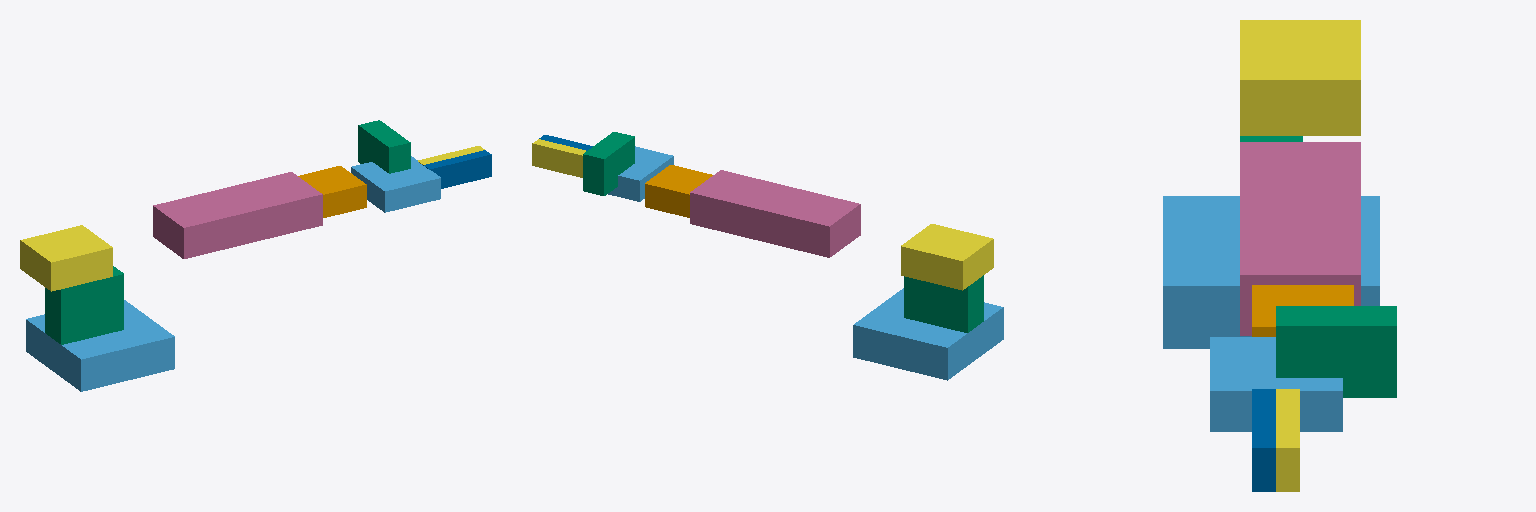
URDF robot description (braccio):
<?xml version="1.0" ?>
<!-- =================================================================================== -->
<!-- |    This document was autogenerated by xacro from description/urdf/braccio.urdf.xacro | -->
<!-- |    EDITING THIS FILE BY HAND IS NOT RECOMMENDED                                 | -->
<!-- =================================================================================== -->
<robot name="braccio">
  <!-- create link fixed to the "world" -->
  <link name="world"/>
  <!-- Load the YAML file -->
  <!-- <xacro:property name="yaml_file" value="$(find braccio_simulation)/urdf/config/braccio_param.yaml"/>
    <xacro:property name="robot_descr" value="${xacro.load_yaml(yaml_file)}"/> -->
  <!-- helper macro -->
  <link name="base_link">
    <visual>
      <origin rpy="0 0 0" xyz="0 0 0.0145"/>
      <geometry>
        <box size="0.088 0.090 0.029"/>
      </geometry>
    </visual>
    <collision>
      <origin rpy="0 0 0" xyz="0 0 0.0145"/>
      <geometry>
        <box size="0.088 0.090 0.029"/>
      </geometry>
    </collision>
    <inertial>
      <mass value="1"/>
      <inertia ixx="1.0" ixy="0.0" ixz="0.0" iyy="1.0" iyz="0.0" izz="1.0"/>
    </inertial>
  </link>
  <link name="base_vert_servo_rot">
    <visual>
      <origin rpy="0 0 0" xyz="0 0 0"/>
      <geometry>
        <box size="0.059 0.026 0.050"/>
      </geometry>
    </visual>
    <collision>
      <origin rpy="0 0 0" xyz="0 0 0"/>
      <geometry>
        <box size="0.059 0.026 0.050"/>
      </geometry>
    </collision>
    <inertial>
      <mass value="1"/>
      <inertia ixx="1.0" ixy="0.0" ixz="0.0" iyy="1.0" iyz="0.0" izz="1.0"/>
    </inertial>
  </link>
  <link name="base_servo_ud">
    <visual>
      <origin rpy="0 0 0" xyz="0.002 0.012 0.013"/>
      <geometry>
        <box size="0.058 0.050 0.026"/>
      </geometry>
    </visual>
    <collision>
      <origin rpy="0 0 0" xyz="0.002 0.012 0.013"/>
      <geometry>
        <box size="0.058 0.050 0.026"/>
      </geometry>
    </collision>
    <inertial>
      <mass value="1"/>
      <inertia ixx="1.0" ixy="0.0" ixz="0.0" iyy="1.0" iyz="0.0" izz="1.0"/>
    </inertial>
  </link>
  <link name="arm_1_up_down_p1">
    <visual>
      <origin rpy="0 0 -1.570796327" xyz="0 0 0"/>
      <geometry>
        <mesh filename="file:///braccio_control/install/braccio_simulation/share/braccio_simulation/model/3Dparts/ModelARM-Body.stl" scale="0.001 0.001 0.001"/>
      </geometry>
    </visual>
    <collision>
      <origin rpy="0 0 -1.570796327" xyz="0 0 0"/>
      <geometry>
        <mesh filename="file:///braccio_control/install/braccio_simulation/share/braccio_simulation/model/3Dparts/ModelARM-Body.stl" scale="0.001 0.001 0.001"/>
      </geometry>
    </collision>
    <inertial>
      <mass value="1"/>
      <inertia ixx="1.0" ixy="0.0" ixz="0.0" iyy="1.0" iyz="0.0" izz="1.0"/>
    </inertial>
  </link>
  <link name="arm_1_up_down_p2">
    <visual>
      <origin rpy="3.141592653589793 0 -1.570796327" xyz="0 0 0"/>
      <geometry>
        <mesh filename="file:///braccio_control/install/braccio_simulation/share/braccio_simulation/model/3Dparts/ModelARM-Body.stl" scale="0.001 0.001 0.001"/>
      </geometry>
    </visual>
    <collision>
      <origin rpy="3.141592653589793 0 -1.570796327" xyz="0 0 0"/>
      <geometry>
        <mesh filename="file:///braccio_control/install/braccio_simulation/share/braccio_simulation/model/3Dparts/ModelARM-Body.stl" scale="0.001 0.001 0.001"/>
      </geometry>
    </collision>
    <inertial>
      <mass value="1"/>
      <inertia ixx="1.0" ixy="0.0" ixz="0.0" iyy="1.0" iyz="0.0" izz="1.0"/>
    </inertial>
  </link>
  <link name="arm_2_up_down">
    <visual>
      <origin rpy="0 0 0" xyz="0.045 -0.001 0"/>
      <geometry>
        <box size="0.13 0.050 0.028"/>
      </geometry>
    </visual>
    <collision>
      <origin rpy="0 0 0" xyz="0.045 -0.001 0"/>
      <geometry>
        <box size="0.13 0.050 0.028"/>
      </geometry>
    </collision>
    <inertial>
      <mass value="1"/>
      <inertia ixx="1.0" ixy="0.0" ixz="0.0" iyy="1.0" iyz="0.0" izz="1.0"/>
    </inertial>
  </link>
  <link name="arm_3_up_down">
    <visual>
      <origin rpy="0 0 -1.570796327" xyz="0 0 0"/>
      <geometry>
        <mesh filename="file:///braccio_control/install/braccio_simulation/share/braccio_simulation/model/3Dparts/ModelARM-Body.stl" scale="0.001 0.001 0.001"/>
      </geometry>
    </visual>
    <collision>
      <origin rpy="0 0 -1.570796327" xyz="0 0 0"/>
      <geometry>
        <mesh filename="file:///braccio_control/install/braccio_simulation/share/braccio_simulation/model/3Dparts/ModelARM-Body.stl" scale="0.001 0.001 0.001"/>
      </geometry>
    </collision>
    <inertial>
      <mass value="1"/>
      <inertia ixx="1.0" ixy="0.0" ixz="0.0" iyy="1.0" iyz="0.0" izz="1.0"/>
    </inertial>
  </link>
  <link name="box_servo_rot">
    <visual>
      <origin rpy="0 0 0" xyz="0 0 0"/>
      <geometry>
        <box size="0.042 0.042 0.021"/>
      </geometry>
    </visual>
    <collision>
      <origin rpy="0 0 0" xyz="0 0 0"/>
      <geometry>
        <box size="0.042 0.042 0.021"/>
      </geometry>
    </collision>
    <inertial>
      <mass value="1"/>
      <inertia ixx="1.0" ixy="0.0" ixz="0.0" iyy="1.0" iyz="0.0" izz="1.0"/>
    </inertial>
  </link>
  <link name="rot_grasp">
    <visual>
      <origin rpy="0 0 0" xyz="0.0265 0 0"/>
      <geometry>
        <box size="0.053 0.055 0.019"/>
      </geometry>
    </visual>
    <collision>
      <origin rpy="0 0 0" xyz="0.0265 0 0"/>
      <geometry>
        <box size="0.053 0.055 0.019"/>
      </geometry>
    </collision>
    <inertial>
      <mass value="1"/>
      <inertia ixx="1.0" ixy="0.0" ixz="0.0" iyy="1.0" iyz="0.0" izz="1.0"/>
    </inertial>
  </link>
  <link name="grasp_box">
    <visual>
      <origin rpy="0 0 0" xyz="0.03 0.025 0.0165"/>
      <geometry>
        <box size="0.020 0.050 0.033"/>
      </geometry>
    </visual>
    <collision>
      <origin rpy="0 0 0" xyz="0.03 0.025 0.0165"/>
      <geometry>
        <box size="0.020 0.050 0.033"/>
      </geometry>
    </collision>
    <inertial>
      <mass value="1"/>
      <inertia ixx="1.0" ixy="0.0" ixz="0.0" iyy="1.0" iyz="0.0" izz="1.0"/>
    </inertial>
  </link>
  <link name="grasp_l">
    <visual>
      <origin rpy="0 0 0" xyz="0.029 0.005 0"/>
      <geometry>
        <box size="0.058 0.010 0.020"/>
      </geometry>
    </visual>
    <collision>
      <origin rpy="0 0 0" xyz="0.029 0.005 0"/>
      <geometry>
        <box size="0.058 0.010 0.020"/>
      </geometry>
    </collision>
    <inertial>
      <mass value="1"/>
      <inertia ixx="1.0" ixy="0.0" ixz="0.0" iyy="1.0" iyz="0.0" izz="1.0"/>
    </inertial>
  </link>
  <link name="grasp_r">
    <visual>
      <origin rpy="0 0 0" xyz="0.029 -0.005 0"/>
      <geometry>
        <box size="0.058 0.010 0.020"/>
      </geometry>
    </visual>
    <collision>
      <origin rpy="0 0 0" xyz="0.029 -0.005 0"/>
      <geometry>
        <box size="0.058 0.010 0.020"/>
      </geometry>
    </collision>
    <inertial>
      <mass value="1"/>
      <inertia ixx="1.0" ixy="0.0" ixz="0.0" iyy="1.0" iyz="0.0" izz="1.0"/>
    </inertial>
  </link>
  <joint name="world_joint" type="fixed">
    <parent link="world"/>
    <child link="base_link"/>
    <origin rpy="0 0 0" xyz="0 0 0"/>
  </joint>
  <joint name="baseup_link" type="fixed">
    <parent link="base_link"/>
    <child link="base_vert_servo_rot"/>
    <origin xyz="-0.0145 0 0.054"/>
  </joint>
  <joint name="arm_rot" type="revolute">
    <axis xyz="0 0 1"/>
    <limit effort="1000.0" lower="-1.570796327" upper="1.570796327" velocity="0.5"/>
    <parent link="base_vert_servo_rot"/>
    <child link="base_servo_ud"/>
    <origin xyz="-0.012 0 0.025"/>
  </joint>
  <joint name="arm_1_up_down" type="revolute">
    <axis xyz="0 1 0"/>
    <limit effort="1000.0" lower="-1.570796327" upper="1.570796327" velocity="0.5"/>
    <parent link="base_servo_ud"/>
    <child link="arm_1_up_down_p1"/>
    <origin xyz="0.011 0.013 0.014"/>
  </joint>
  <joint name="arm_1_up_down_2" type="fixed">
    <parent link="arm_1_up_down_p1"/>
    <child link="arm_1_up_down_p2"/>
    <origin xyz="0.106 0.0 0.0"/>
  </joint>
  <joint name="arm_2_up_down" type="revolute">
    <axis xyz="0 1 0"/>
    <limit effort="1000.0" lower="-1.570796327" upper="1.570796327" velocity="0.5"/>
    <parent link="arm_1_up_down_p2"/>
    <child link="arm_2_up_down"/>
    <origin xyz="0.0 0.0 0"/>
  </joint>
  <joint name="arm_3_up_down" type="revolute">
    <axis xyz="0 1 0"/>
    <limit effort="1000.0" lower="-1.570796327" upper="1.570796327" velocity="0.5"/>
    <parent link="arm_2_up_down"/>
    <child link="arm_3_up_down"/>
    <origin xyz="0.091 0 0"/>
  </joint>
  <joint name="supServoRot" type="fixed">
    <parent link="arm_3_up_down"/>
    <child link="box_servo_rot"/>
    <origin xyz="0.042 0 0"/>
  </joint>
  <joint name="rot_grasp" type="revolute">
    <axis xyz="1 0 0"/>
    <limit effort="1000.0" lower="-1.570796327" upper="1.570796327" velocity="0.5"/>
    <parent link="box_servo_rot"/>
    <child link="rot_grasp"/>
    <origin xyz="0.028 -0.011 0"/>
  </joint>
  <joint name="rotation_grip" type="fixed">
    <parent link="rot_grasp"/>
    <child link="grasp_box"/>
    <origin xyz="0 0 0"/>
  </joint>
  <joint name="grasp" type="prismatic">
    <axis xyz="0 1 0"/>
    <limit effort="1000" lower="0" upper="0.03" velocity="2.0"/>
    <parent link="rot_grasp"/>
    <child link="grasp_l"/>
    <origin xyz="0.052 0 0"/>
  </joint>
  <joint name="plan_move" type="prismatic">
    <axis xyz="0 -1 0"/>
    <limit effort="1000" lower="0" upper="0.03" velocity="2.0"/>
    <parent link="rot_grasp"/>
    <child link="grasp_r"/>
    <origin xyz="0.052 0 0"/>
    <mimic joint="grasp" multiplier="1" offset="0"/>
  </joint>
  <ros2_control name="braccio" type="system">
    <hardware>
      <plugin>ros2_control_braccio/RobotSystem</plugin>
    </hardware>
    <joint name="arm_rot">
      <command_interface name="position">
        <param name="min">-6.283185307179586</param>
        <param name="max">6.283185307179586</param>
      </command_interface>
      <state_interface name="position">
        <param name="initial_value">0.0</param>
      </state_interface>
    </joint>
    <joint name="arm_1_up_down">
      <command_interface name="position">
        <param name="min">-6.283185307179586</param>
        <param name="max">6.283185307179586</param>
      </command_interface>
      <state_interface name="position">
        <param name="initial_value">0.0</param>
      </state_interface>
    </joint>
    <joint name="arm_2_up_down">
      <command_interface name="position">
        <param name="min">-3.141592653589793</param>
        <param name="max">3.141592653589793</param>
      </command_interface>
      <state_interface name="position">
        <param name="initial_value">0.0</param>
      </state_interface>
    </joint>
    <joint name="arm_3_up_down">
      <command_interface name="position">
        <param name="min">-6.283185307179586</param>
        <param name="max">6.283185307179586</param>
      </command_interface>
      <state_interface name="position">
        <param name="initial_value">0.0</param>
      </state_interface>
    </joint>
    <joint name="rot_grasp">
      <command_interface name="position">
        <param name="min">-6.283185307179586</param>
        <param name="max">6.283185307179586</param>
      </command_interface>
      <state_interface name="position">
        <param name="initial_value">0.0</param>
      </state_interface>
    </joint>
    <joint name="grasp">
      <command_interface name="position">
        <param name="min">-6.283185307179586</param>
        <param name="max">6.283185307179586</param>
      </command_interface>
      <state_interface name="position">
        <param name="initial_value">0.0</param>
      </state_interface>
    </joint>
  </ros2_control>
</robot>

--- Render facts (derived) ---
3 views of the same robot in one strip: view 1: azimuth 30°, elevation 25°; view 2: azimuth 150°, elevation 25°; view 3: azimuth 270°, elevation 25° (orthographic).
Robot: braccio — 13 links, 12 joints (5 revolute, 2 prismatic, 5 fixed); root link world; default pose: every joint at zero.
Visible links, largest first — view 1: arm_2_up_down, base_link, base_servo_ud, base_vert_servo_rot, rot_grasp, grasp_box, box_servo_rot, grasp_r; view 2: arm_2_up_down, base_link, base_servo_ud, base_vert_servo_rot, grasp_box, box_servo_rot, rot_grasp, grasp_l; view 3: arm_2_up_down, base_servo_ud, base_link, grasp_box, rot_grasp, box_servo_rot, grasp_l, grasp_r.
Link boxes in pixels (left/top/right/bottom): arm_2_up_down: left=153, top=172, right=322, bottom=258; base_link: left=26, top=300, right=174, bottom=391; base_servo_ud: left=20, top=225, right=112, bottom=291; base_vert_servo_rot: left=45, top=266, right=123, bottom=344; rot_grasp: left=351, top=156, right=440, bottom=212; grasp_box: left=358, top=120, right=410, bottom=173; box_servo_rot: left=298, top=166, right=366, bottom=217; grasp_r: left=423, top=150, right=491, bottom=188; arm_2_up_down: left=690, top=170, right=860, bottom=257; base_link: left=853, top=288, right=1003, bottom=380; base_servo_ud: left=901, top=224, right=993, bottom=290; base_vert_servo_rot: left=904, top=275, right=983, bottom=332; grasp_box: left=583, top=132, right=634, bottom=195; box_servo_rot: left=645, top=165, right=712, bottom=217; rot_grasp: left=608, top=146, right=673, bottom=201; grasp_l: left=532, top=139, right=585, bottom=177; arm_2_up_down: left=1240, top=142, right=1360, bottom=335; base_servo_ud: left=1240, top=20, right=1360, bottom=135; base_link: left=1163, top=196, right=1379, bottom=348; grasp_box: left=1276, top=306, right=1396, bottom=397; rot_grasp: left=1210, top=337, right=1342, bottom=431; box_servo_rot: left=1252, top=285, right=1353, bottom=336; grasp_l: left=1276, top=389, right=1299, bottom=491; grasp_r: left=1252, top=389, right=1275, bottom=491.
Bounding box of the posed robot: 0.415 × 0.097 × 0.126 m (x, y, z).
Geometry: only primitive shapes (box / cylinder / sphere) drawn; not drawn: 3 mesh visuals (reference in a form the renderer does not follow).
